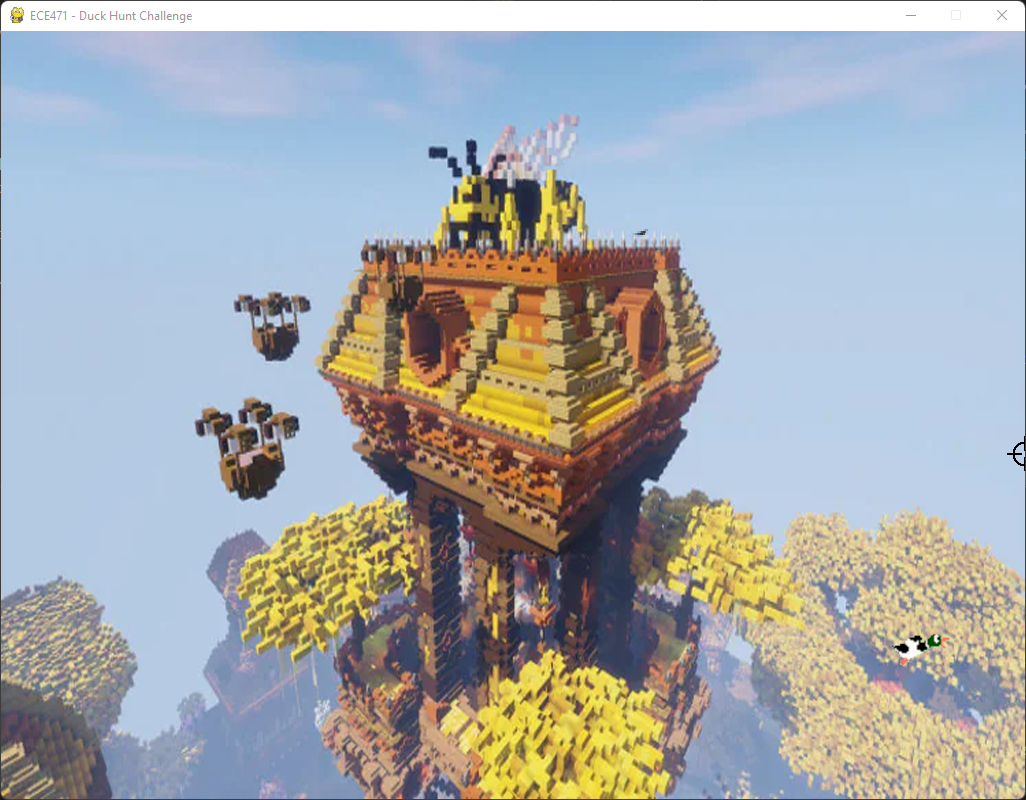black: (887, 628, 954, 668)
